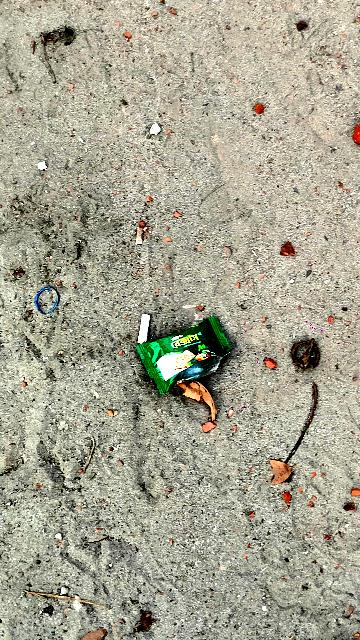packet: (138, 317, 226, 397)
